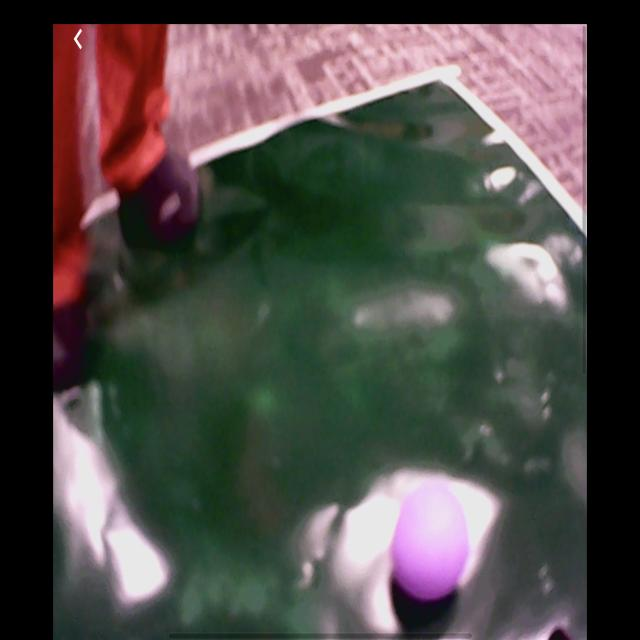ball: (394, 484, 471, 604)
